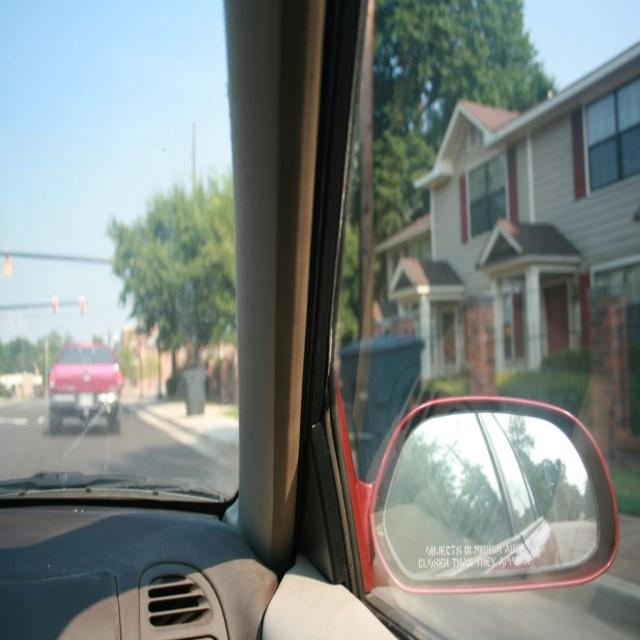car: (38, 347, 126, 429)
